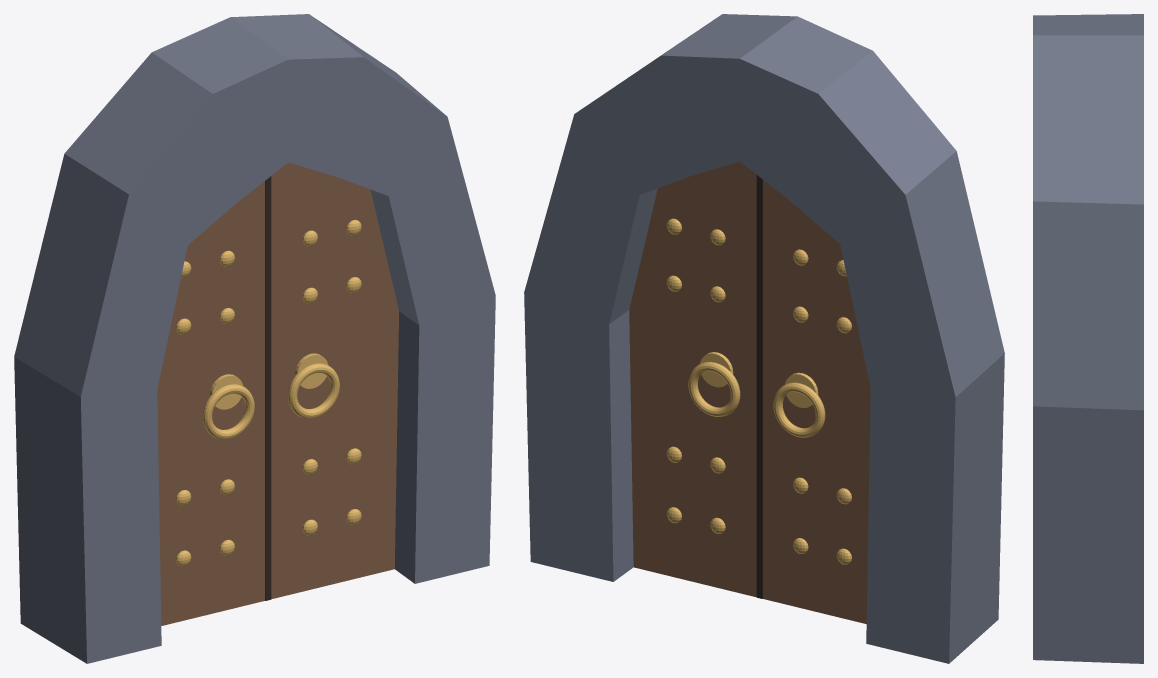
File: Stage_05_妖洞通关石门_闭.glb
The picture shows the model from 3 angles, left to right: view 1: azimuth 30°, elevation 25°; view 2: azimuth 150°, elevation 25°; view 3: azimuth 270°, elevation 25°; orthographic projection. The views are drawn at different scales.
Parts seen in each view (by area): view 1: DungeonArchway, DoorLeaf_1, DoorLeaf_-1, Cube, Torus, Torus.002; view 2: DungeonArchway, DoorLeaf_1, DoorLeaf_-1, Cube, Torus.001, Torus.003; view 3: DungeonArchway.
Part boxes in pixels (x1=…): DungeonArchway: x1=14, y1=14, x2=495, y2=663; DoorLeaf_1: x1=271, y1=162, x2=398, y2=599; DoorLeaf_-1: x1=157, y1=181, x2=264, y2=625; Cube: x1=265, y1=176, x2=271, y2=600; Torus: x1=202, y1=384, x2=254, y2=439; Torus.002: x1=287, y1=363, x2=339, y2=418; DungeonArchway: x1=524, y1=14, x2=1004, y2=663; DoorLeaf_1: x1=629, y1=161, x2=756, y2=597; DoorLeaf_-1: x1=763, y1=180, x2=870, y2=623; Cube: x1=756, y1=175, x2=762, y2=598; Torus.001: x1=773, y1=382, x2=825, y2=437; Torus.003: x1=688, y1=362, x2=740, y2=416; DungeonArchway: x1=1033, y1=14, x2=1143, y2=663.
Size of the model in its own units: 3.96 by 4.86 by 0.92.
